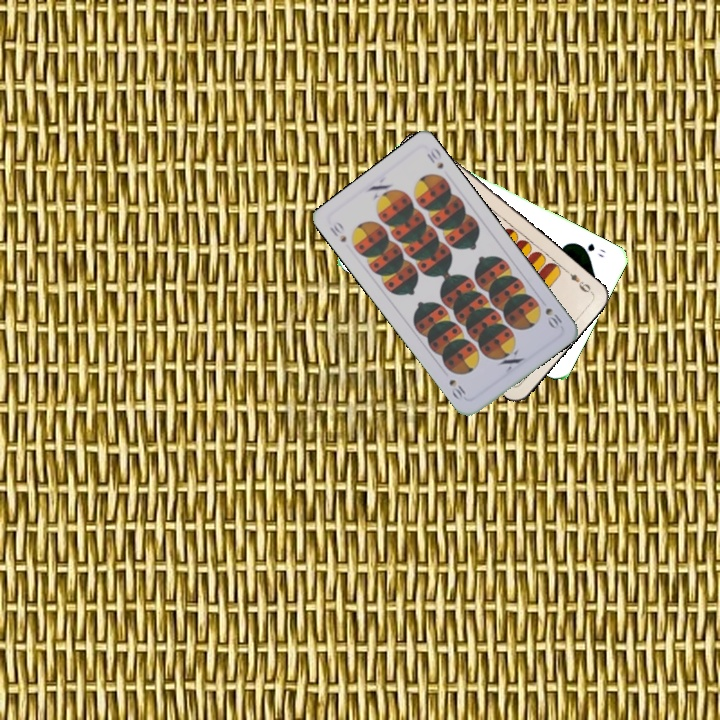E9: (561, 266, 595, 296)
GO: (573, 239, 608, 260)
S10: (541, 304, 566, 332), (326, 218, 349, 245)
